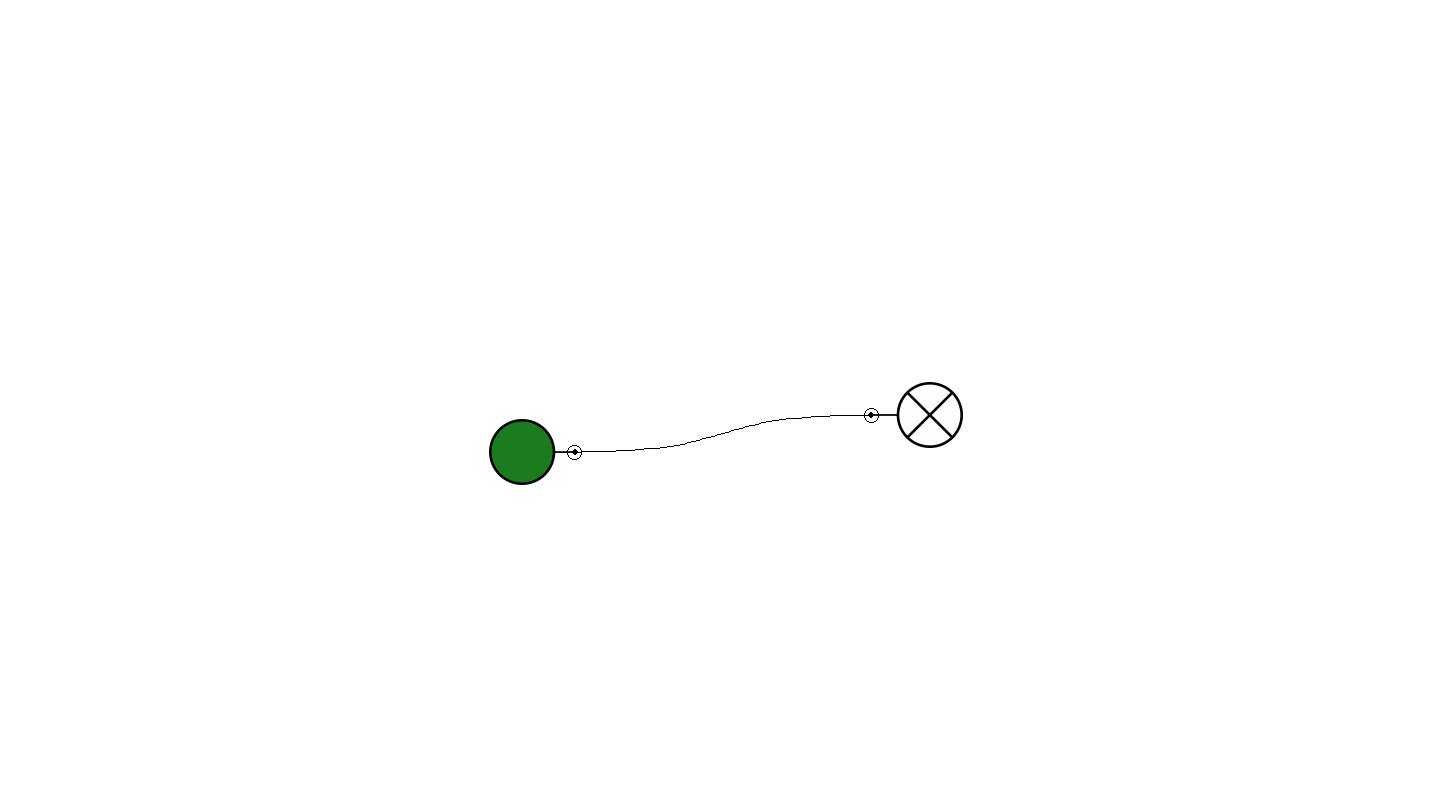bulb: (864, 382, 963, 448)
switch_True: (489, 419, 582, 485)
